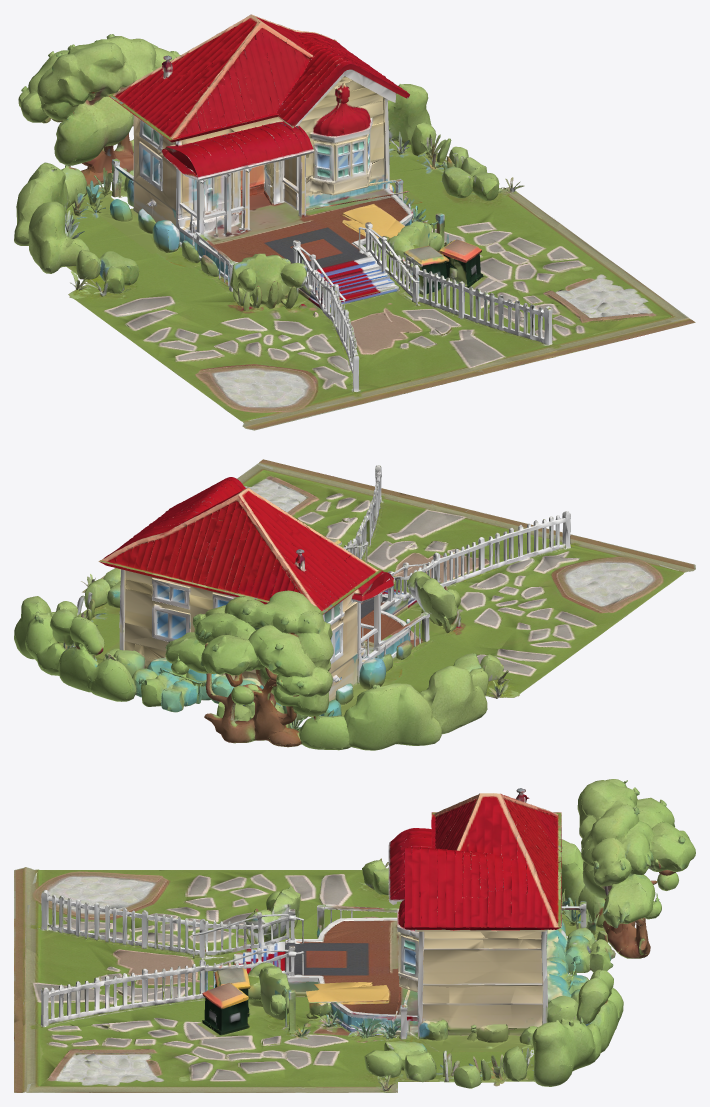
The model's file is heeler_house.glb.
3 renders of one model, top to bottom at view 1: azimuth 30°, elevation 25°; view 2: azimuth 150°, elevation 25°; view 3: azimuth 270°, elevation 25°, orthographic. The views are drawn at different scales.
Visible parts, largest first — view 1: HeelerHouse; view 2: HeelerHouse; view 3: HeelerHouse.
Boxes of the visible parts, left/top/right/bottom form: HeelerHouse: left=14, top=14, right=695, bottom=430; HeelerHouse: left=14, top=459, right=695, bottom=750; HeelerHouse: left=14, top=779, right=695, bottom=1092.
Size of the model in its own units: 20.21 by 8.23 by 25.6.
Materials: 1 (1 with a texture image).
